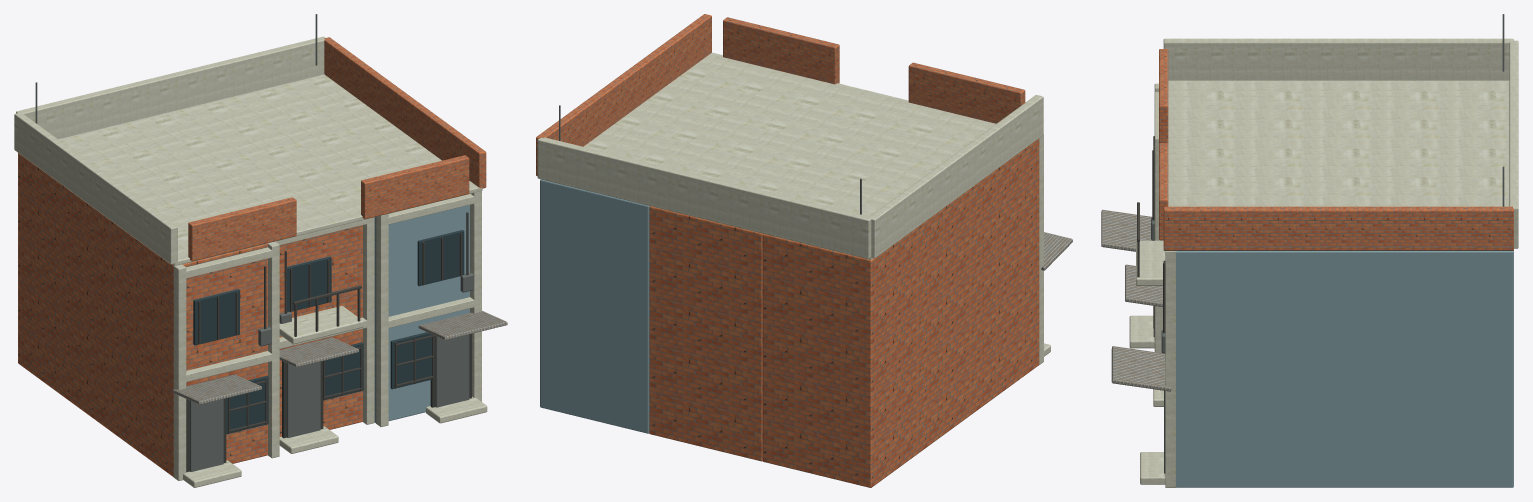
Rendered from lajes_modulo_a.glb.
3 views of the same model, side by side, from view 1: azimuth 30°, elevation 25°; view 2: azimuth 150°, elevation 25°; view 3: azimuth 270°, elevation 25° (orthographic). The views are drawn at different scales.
Parts seen in each view (by area): view 1: lajes_modulo_a; view 2: lajes_modulo_a; view 3: lajes_modulo_a.
Part boxes in pixels (x1,y1,x2,y2): lajes_modulo_a: [14, 14, 507, 487]; lajes_modulo_a: [536, 14, 1072, 487]; lajes_modulo_a: [1101, 14, 1518, 487].
Size of the model in its own units: 7.78 by 6.62 by 7.98.
8 materials, 3 textured.
